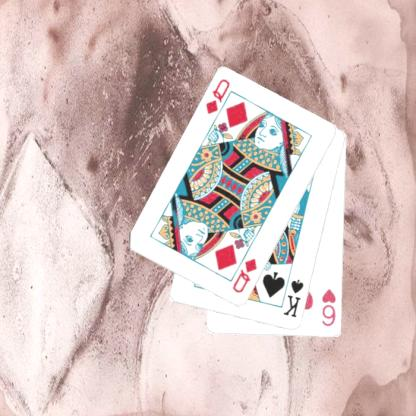6H: (320, 286, 338, 328)
KS: (281, 276, 306, 319)
QD: (203, 76, 231, 116), (230, 256, 259, 294)
